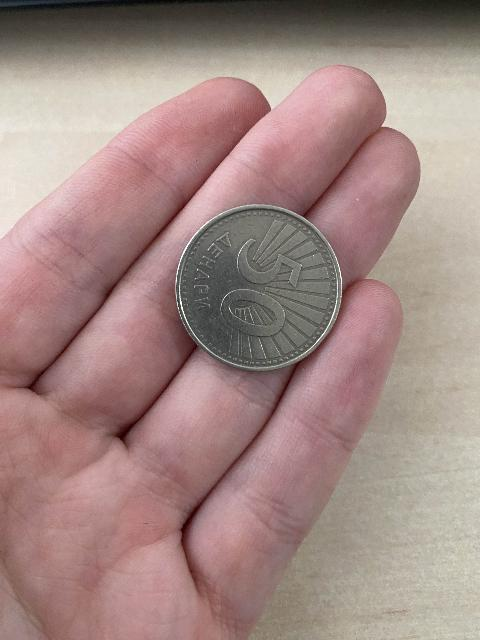coin: (175, 206, 347, 369)
